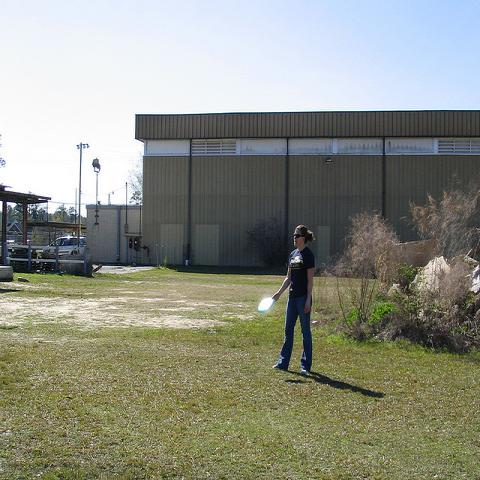car: (43, 236, 86, 257)
